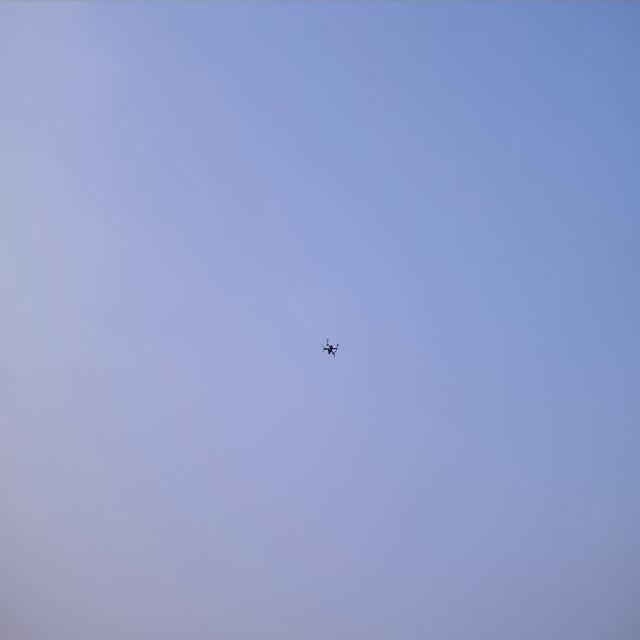UAV: (320, 337, 340, 360)
